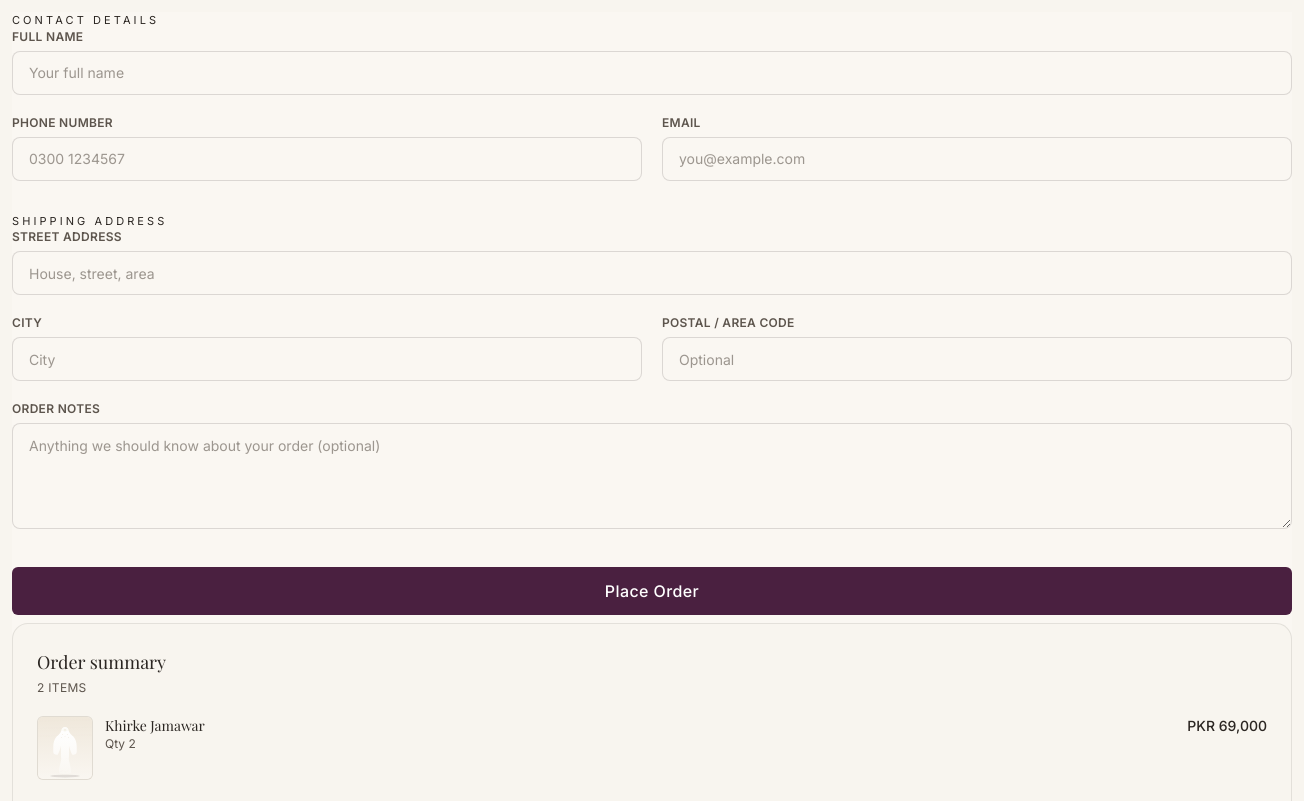
Test: CheckoutForm › shows a server-rejected state when validation fails upstream
Type "Ali Raza" into the field labelled "Full name" at (652, 72), box [12, 50, 1292, 94]
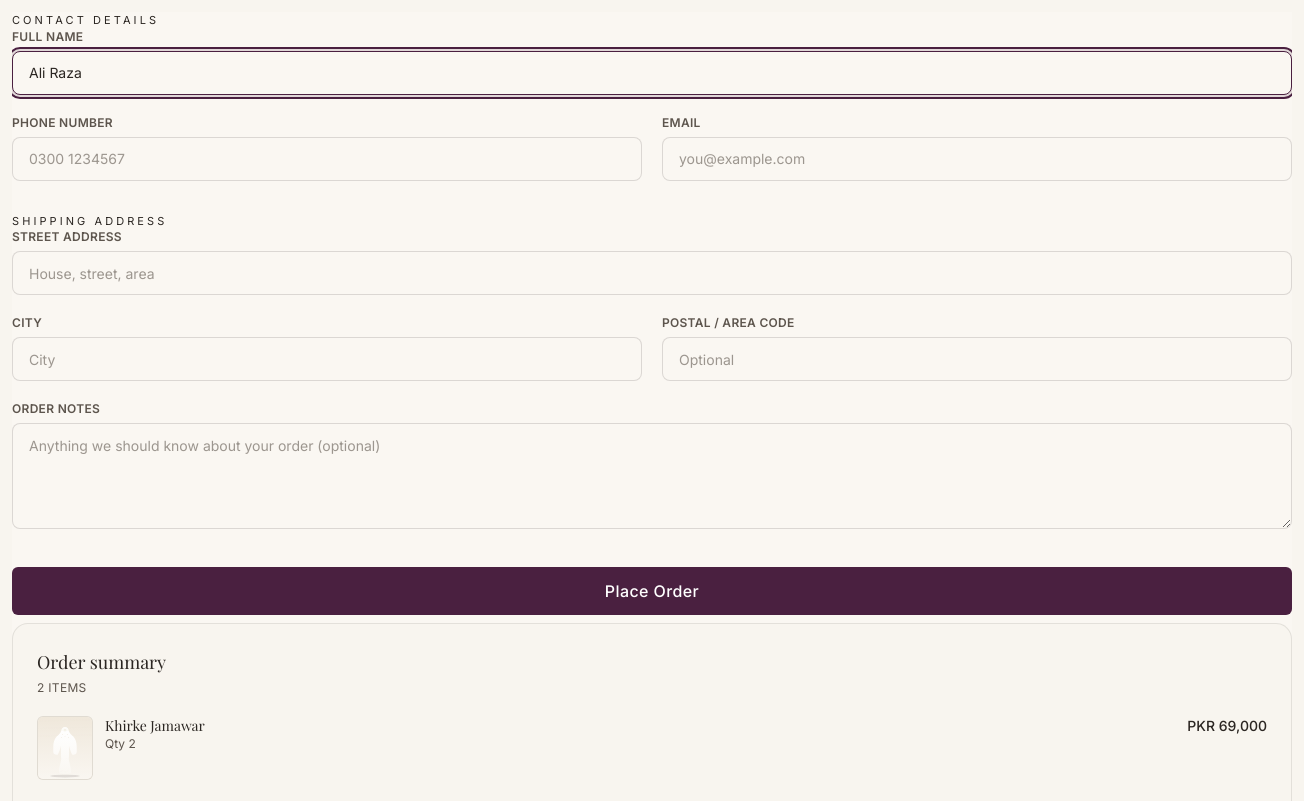
Type "03001234567" into the field labelled "Phone number" at (327, 158), box [12, 136, 642, 180]
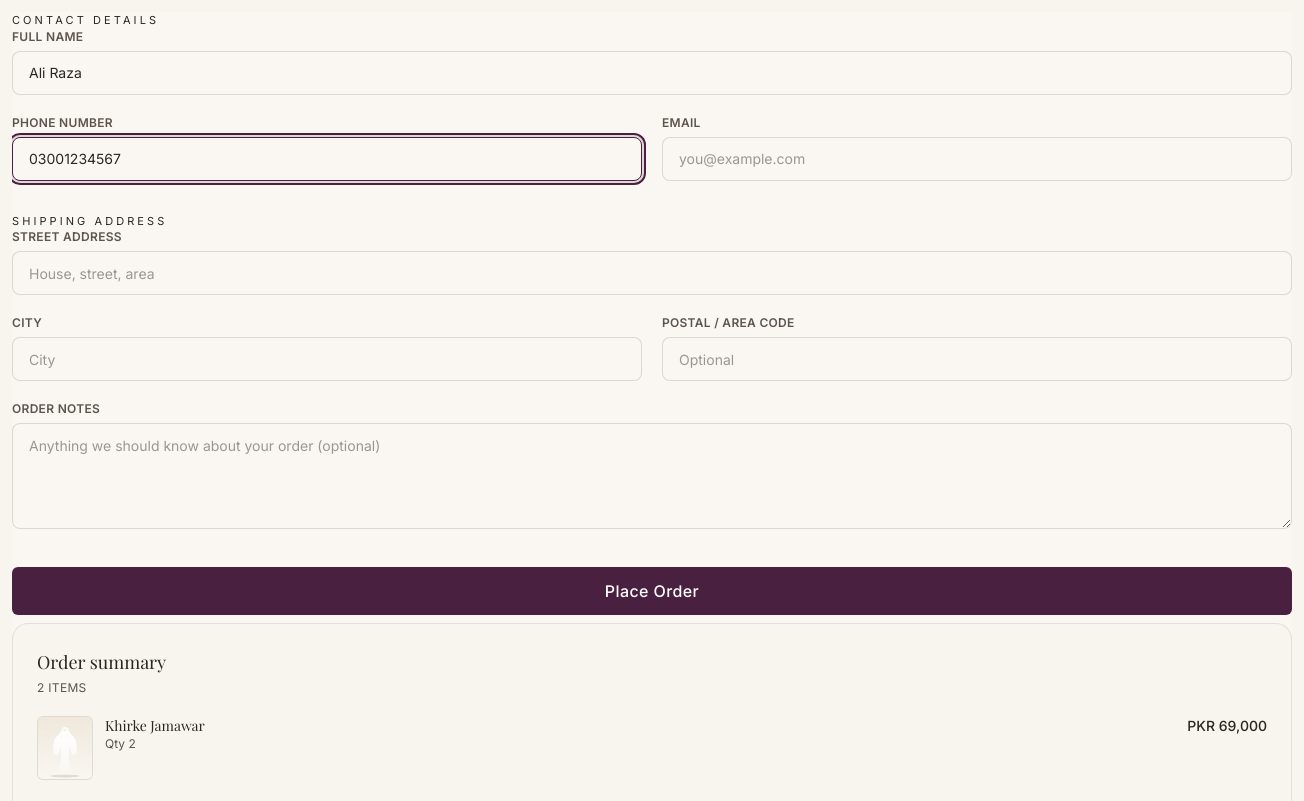
Type "ali@example.com" into the field labelled "Email" at (977, 158), box [662, 136, 1292, 180]
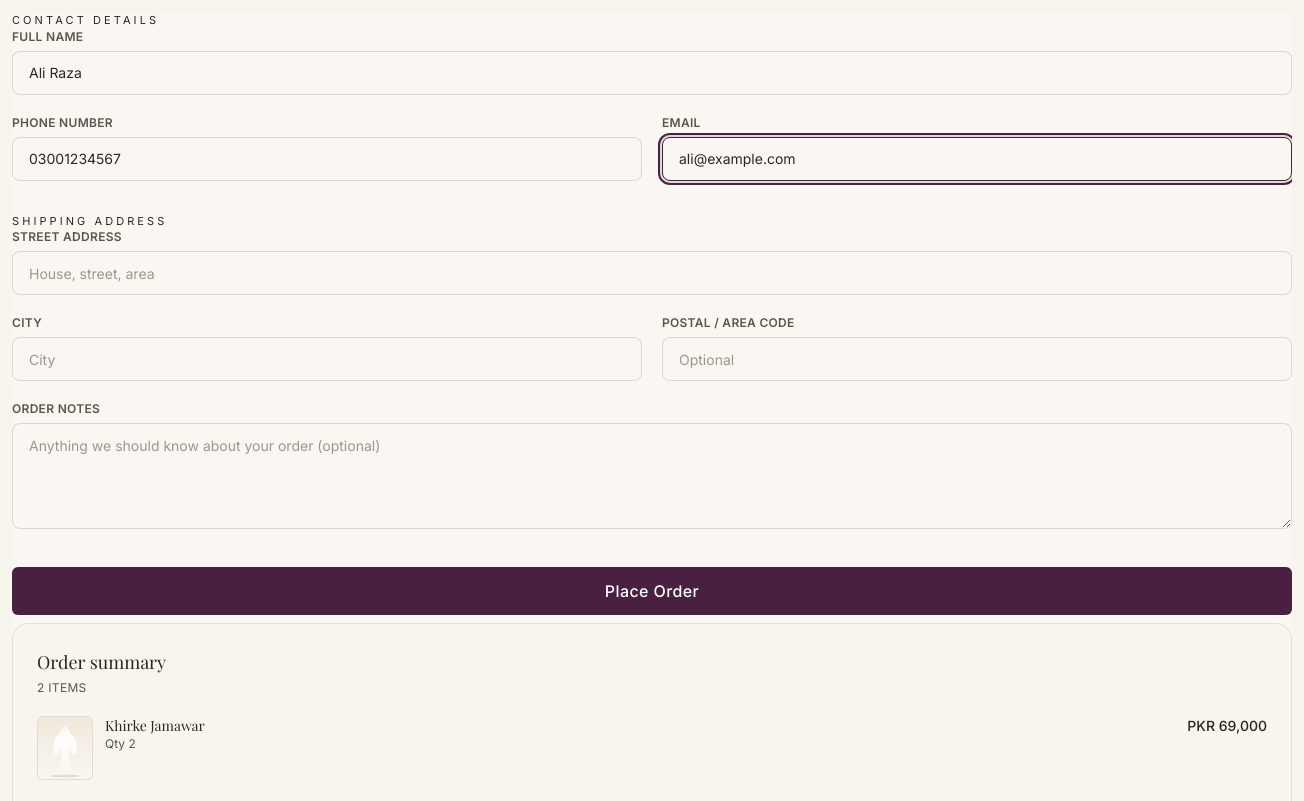
Type "House 44, Main Boulevard" into the field labelled "Street address" at (652, 273), box [12, 251, 1292, 295]
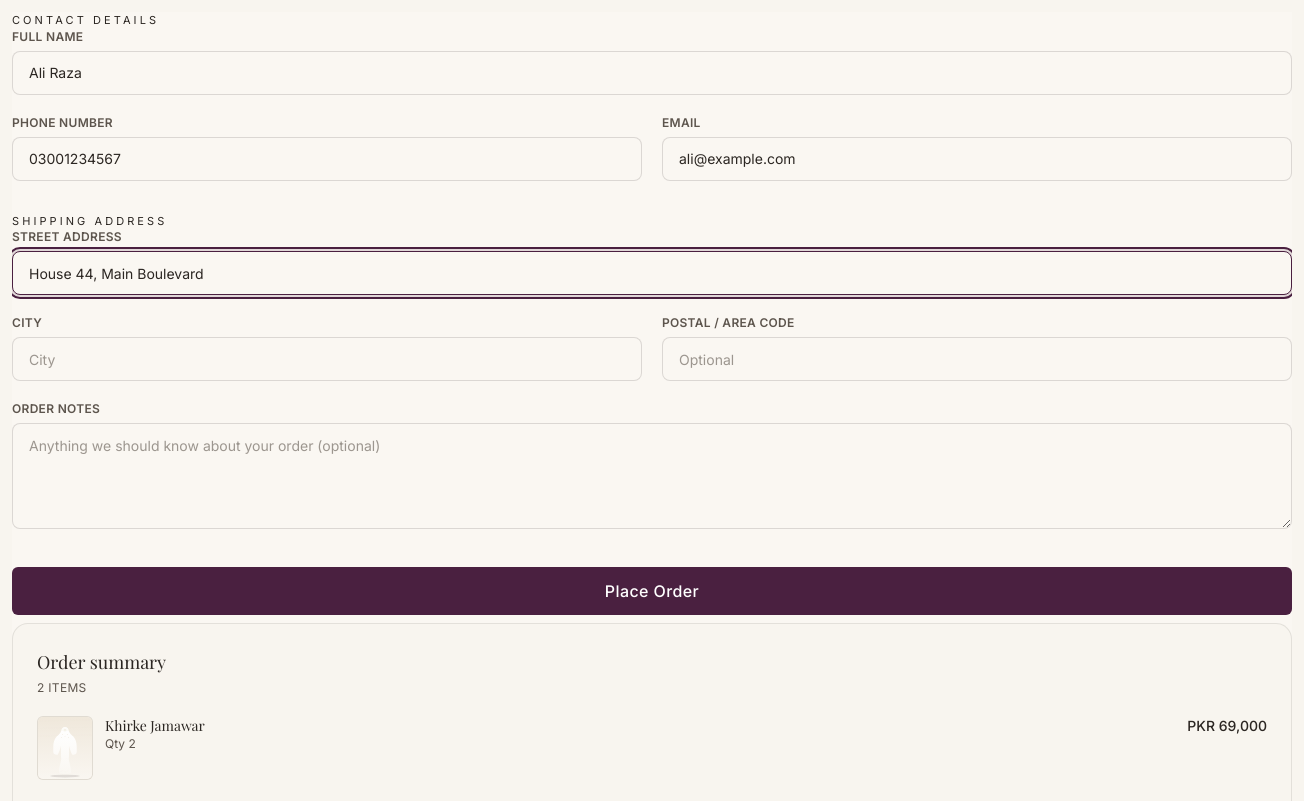
Type "Lahore" into the field labelled "City" at (327, 359), box [12, 337, 642, 381]
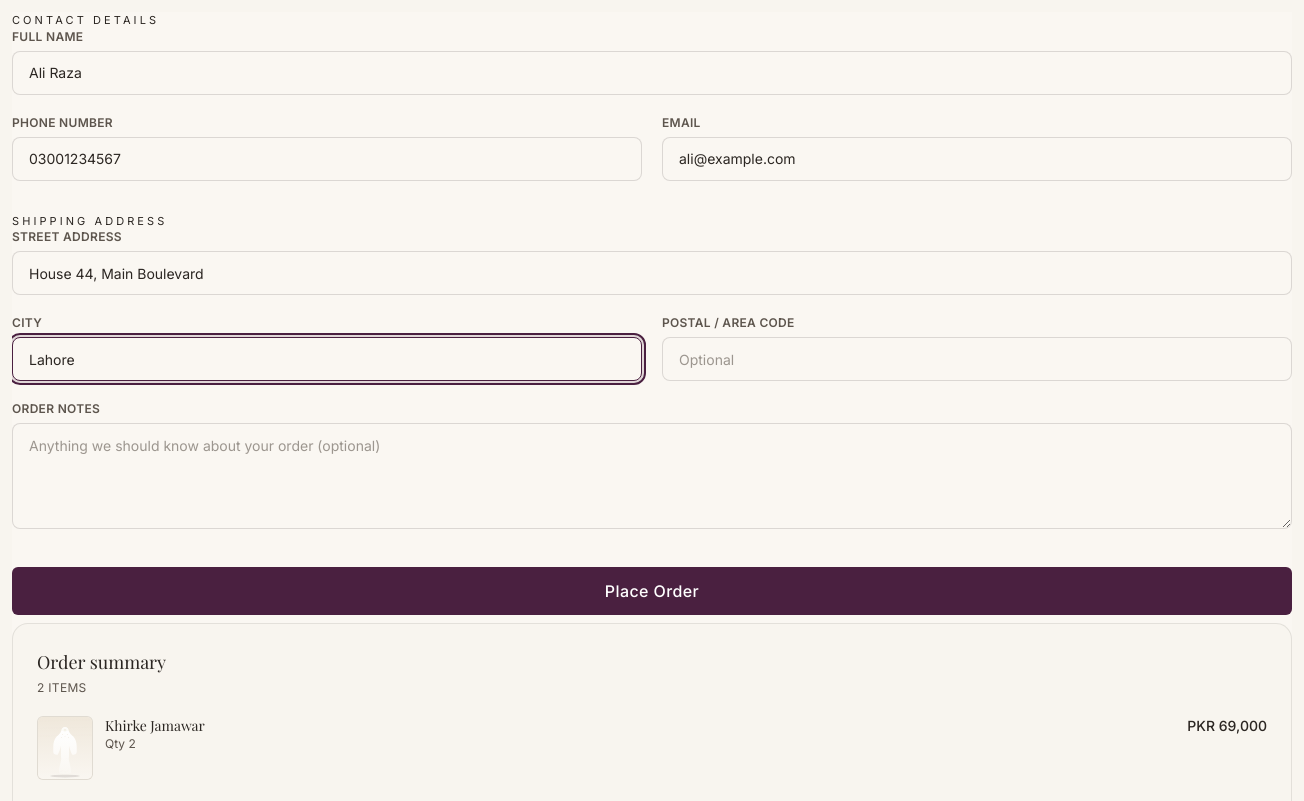
Click the button "Place Order" at (652, 591), box [12, 567, 1292, 615]
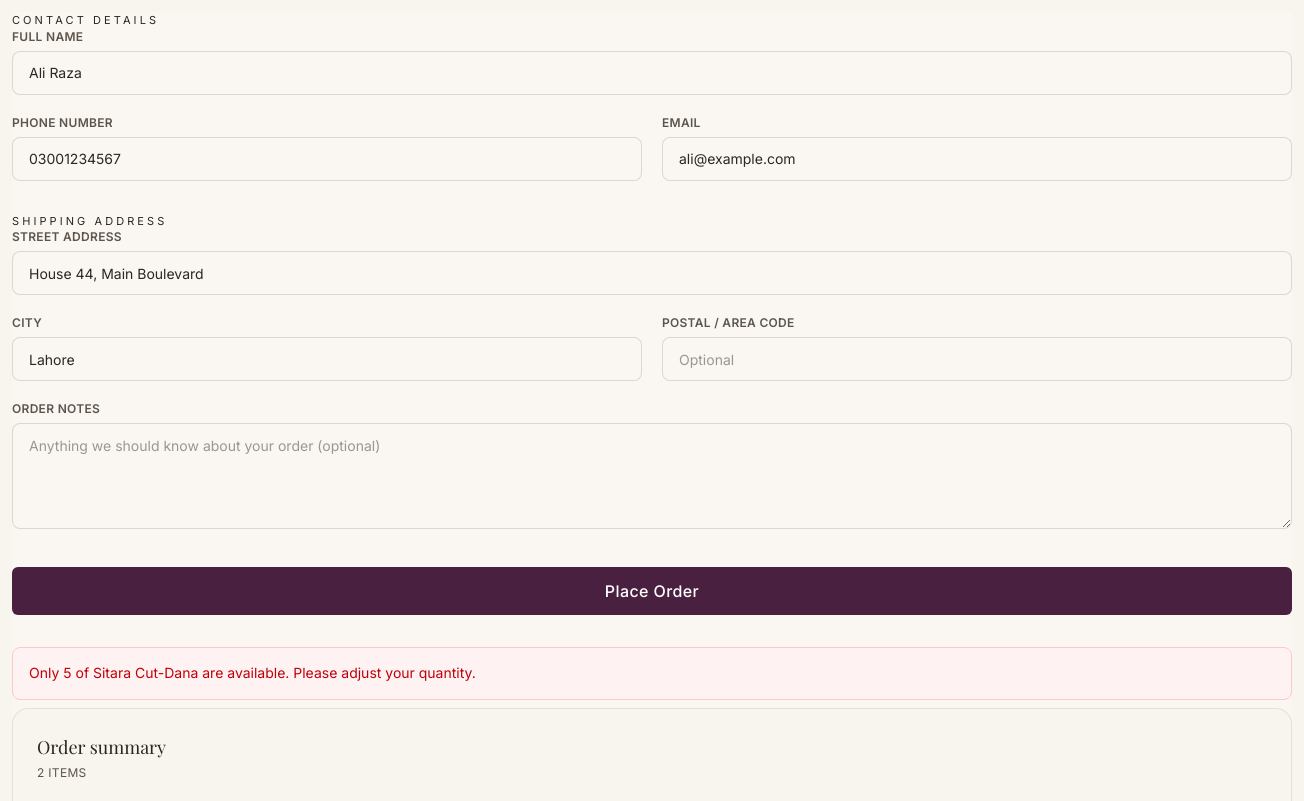
Result: the text "Only 5 of Sitara Cut-Dana are available. Please adjust your quantity." is shown at [12, 647, 1292, 700]
